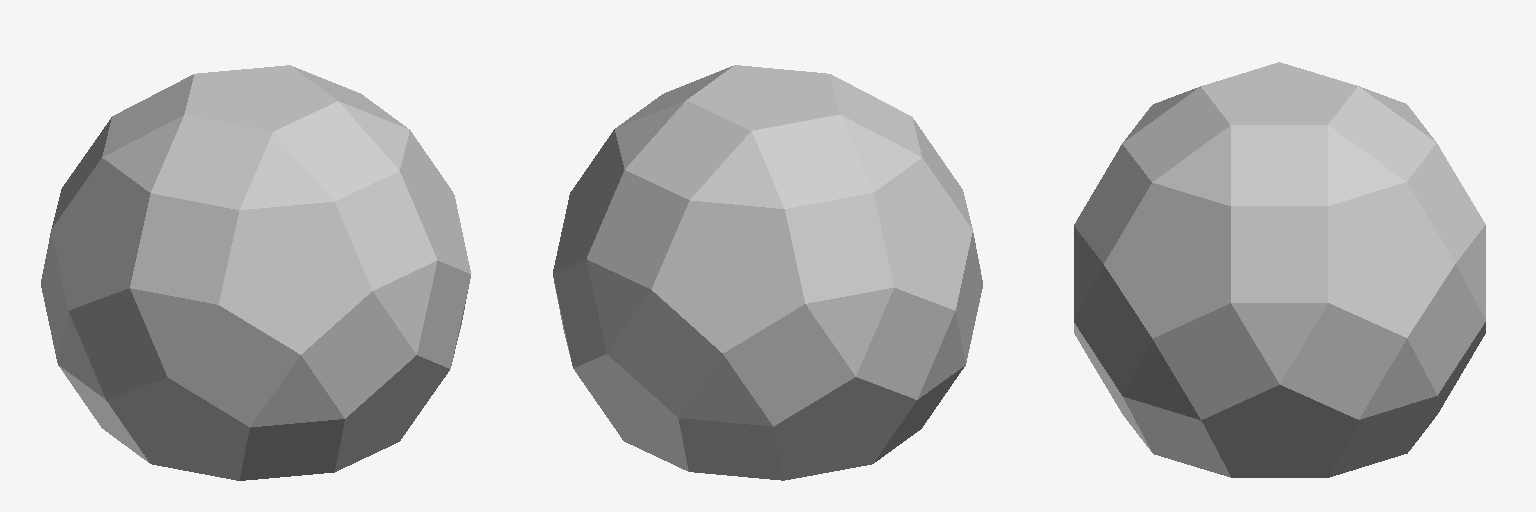
Rendered from ParaGyrateDiminishedRhombIcosiDodecahedron.obj.
The picture shows the model from 3 angles: view 1: azimuth 30°, elevation 25°; view 2: azimuth 150°, elevation 25°; view 3: azimuth 270°, elevation 25°; orthographic projection.
Parts seen in each view (by area): view 1: ParaGyrateDiminishedRhombIcosiDodecahedron; view 2: ParaGyrateDiminishedRhombIcosiDodecahedron; view 3: ParaGyrateDiminishedRhombIcosiDodecahedron.
Part boxes in pixels (bbox=[...]): ParaGyrateDiminishedRhombIcosiDodecahedron: bbox=[41, 65, 470, 480]; ParaGyrateDiminishedRhombIcosiDodecahedron: bbox=[553, 65, 982, 480]; ParaGyrateDiminishedRhombIcosiDodecahedron: bbox=[1074, 62, 1485, 477].
Size of the model in its own units: 3.34 by 2.71 by 3.18.